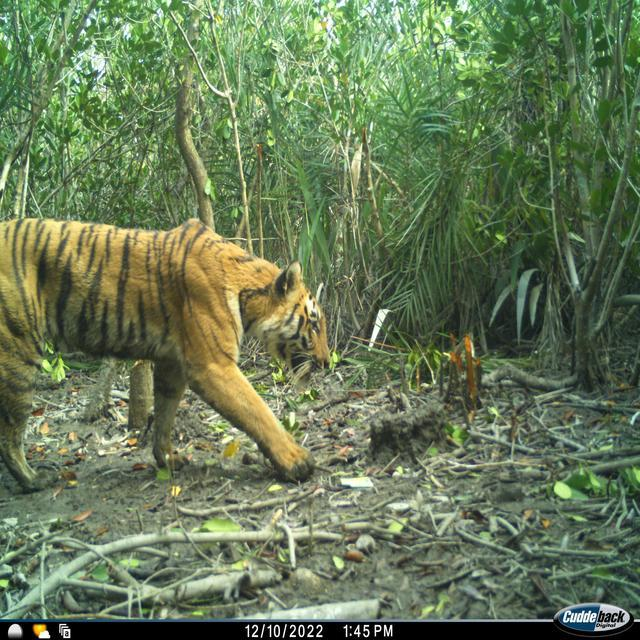tiger: (0, 214, 331, 493)
